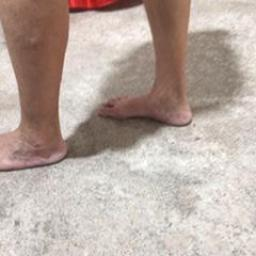Medial View -Right Foot-: (92, 62, 198, 140)
